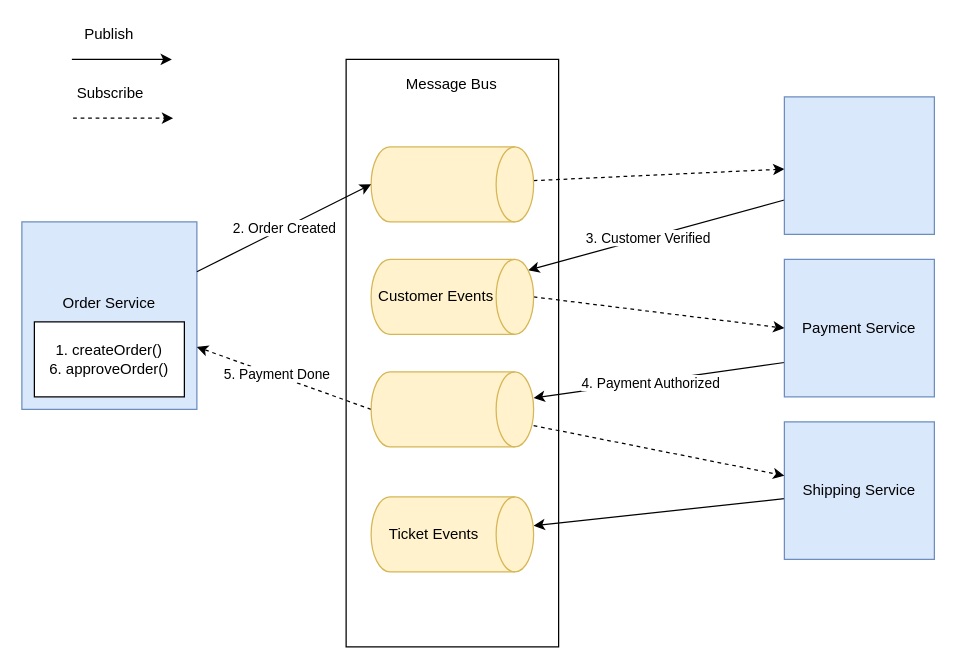
Some shapes in this 956 by 669 pixel diagram are drawn without their labels. Each missing label, with the box of its shape:
Customer Sevice: (783, 96, 934, 234)
Order Events: (370, 146, 534, 222)
Purchase Events: (370, 371, 534, 447)
